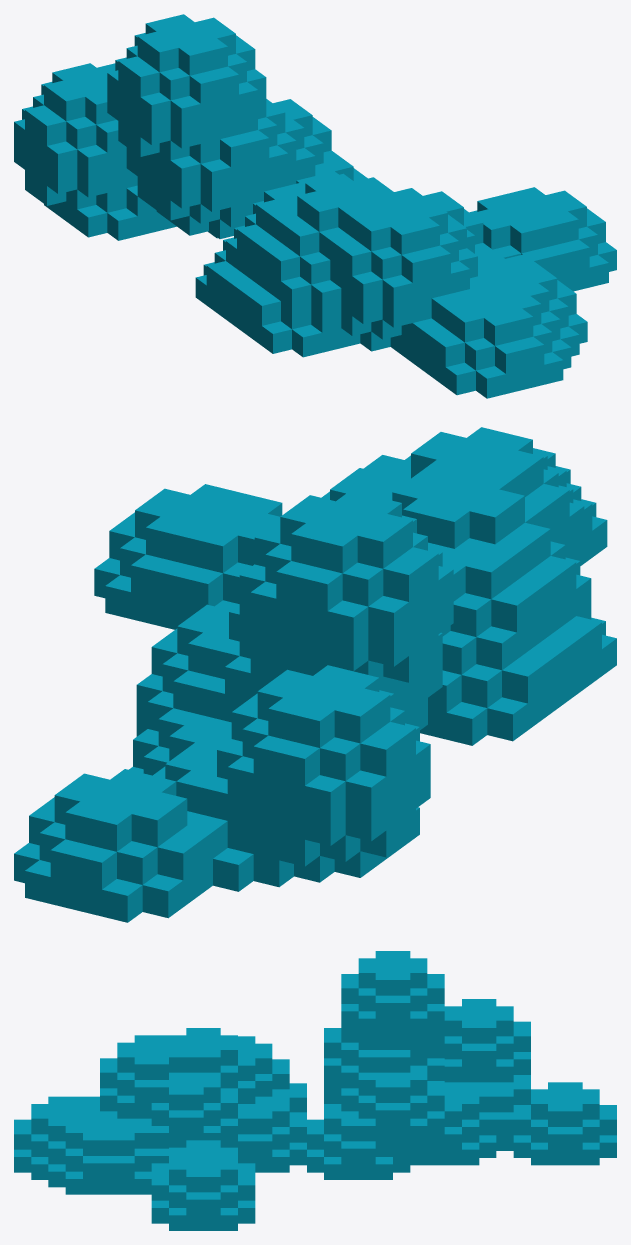
Rendered from IceBerries-8.obj.
3 renders of one model, top to bottom at view 1: azimuth 30°, elevation 25°; view 2: azimuth 150°, elevation 25°; view 3: azimuth 270°, elevation 25°, orthographic. The views are drawn at different scales.
Bounding box in the file's own units: 2 × 1 × 3.5.
Materials: 1 (1 with a texture image).
